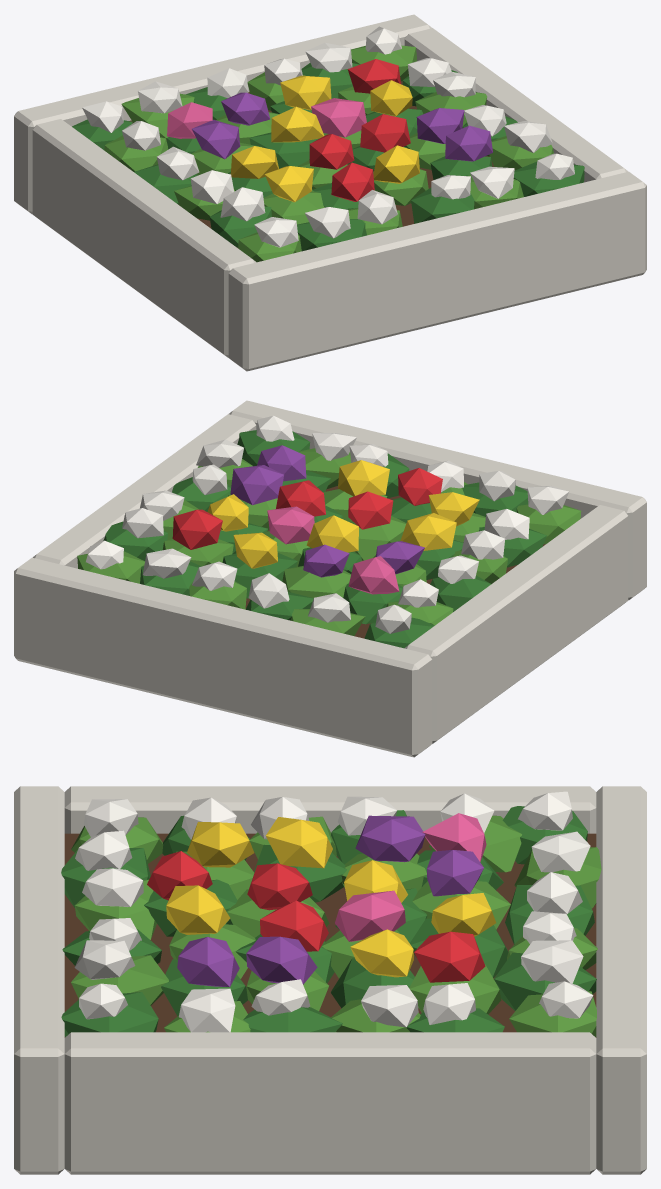
File: canteiro_flores.glb
The picture shows the model from 3 angles, top to bottom: view 1: azimuth 30°, elevation 25°; view 2: azimuth 150°, elevation 25°; view 3: azimuth 270°, elevation 25°; orthographic projection. The views are drawn at different scales.
Visible parts, largest first — view 1: canteiro_flores; view 2: canteiro_flores; view 3: canteiro_flores.
Part boxes in pixels (x1=…): canteiro_flores: x1=14, y1=14, x2=646, y2=371; canteiro_flores: x1=14, y1=400, x2=646, y2=757; canteiro_flores: x1=14, y1=786, x2=646, y2=1174.
Size of the model in its own units: 1 by 0.2986 by 1.
